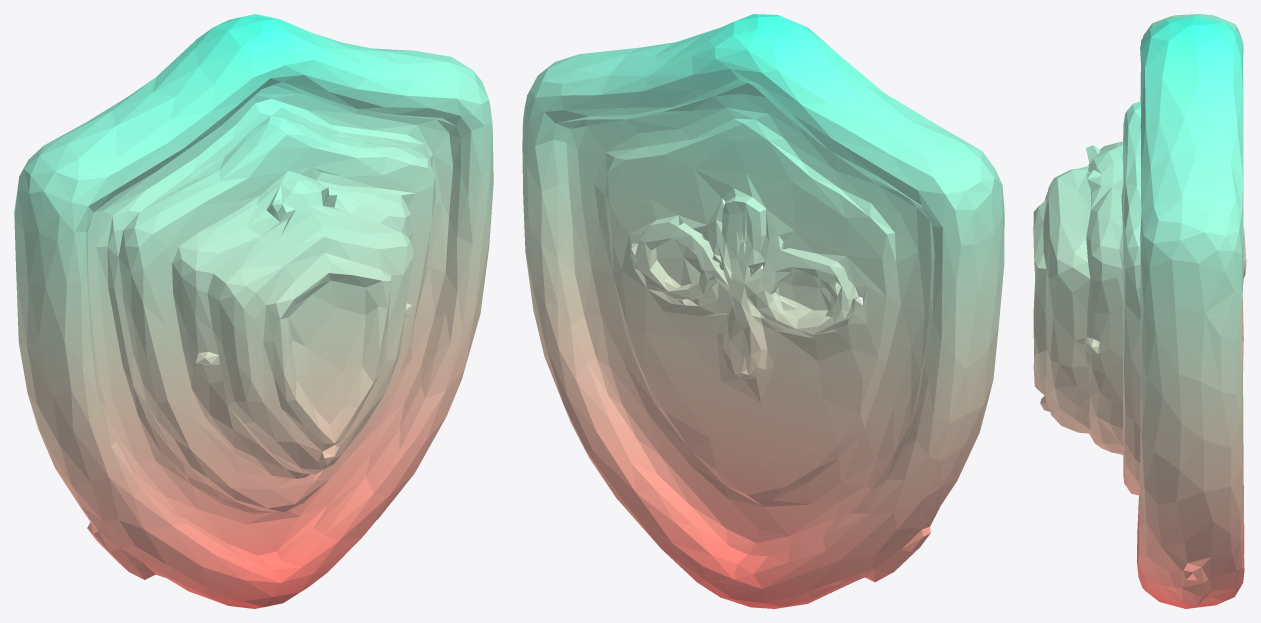
Rendered from 36_cyb_laser_gradient_fish_scales_2897_2026_10_03_15cc85.glb.
3 views of the same model, side by side, from view 1: azimuth 30°, elevation 25°; view 2: azimuth 150°, elevation 25°; view 3: azimuth 270°, elevation 25° (orthographic).
Parts seen in each view (by area): view 1: geometry_0; view 2: geometry_0; view 3: geometry_0.
Part boxes in pixels (bbox=[...]): geometry_0: bbox=[14, 14, 493, 608]; geometry_0: bbox=[522, 14, 1004, 608]; geometry_0: bbox=[1033, 14, 1246, 608].
Size of the model in its own units: 0.8007 by 0.9702 by 0.3244.
